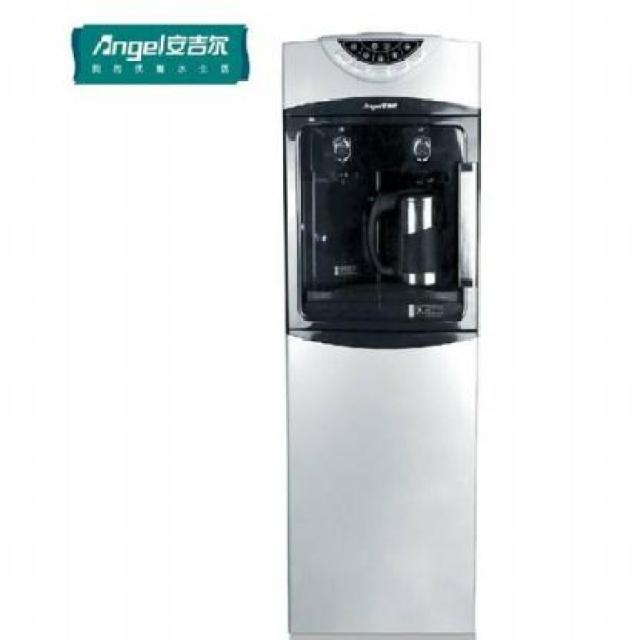cooler: (277, 24, 488, 640)
